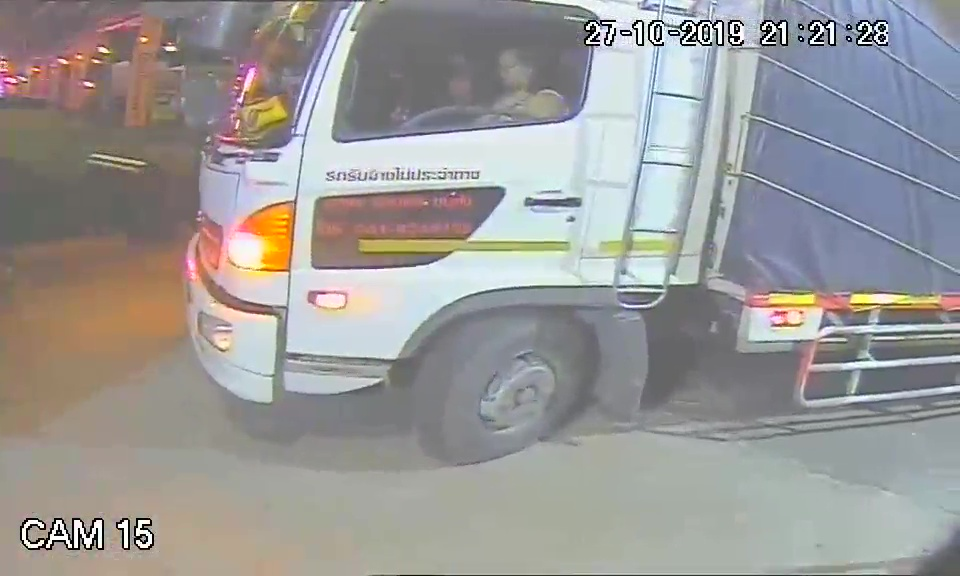truck: (181, 5, 732, 464)
